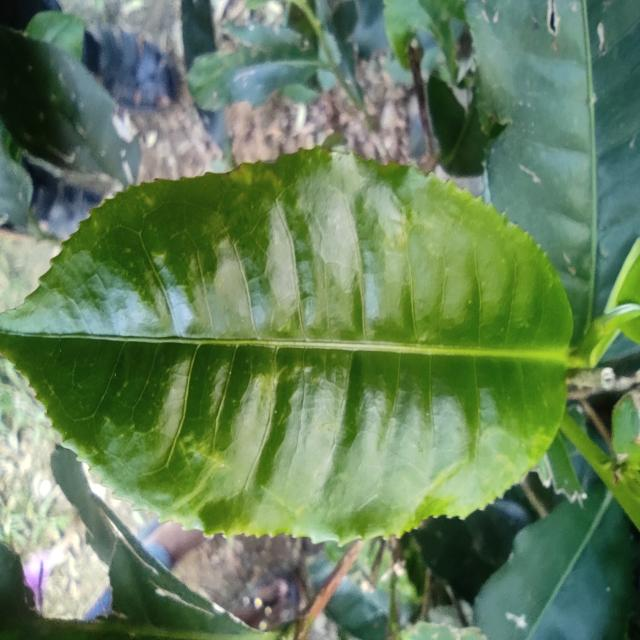Category C(4-7 days): (0, 135, 585, 557)
